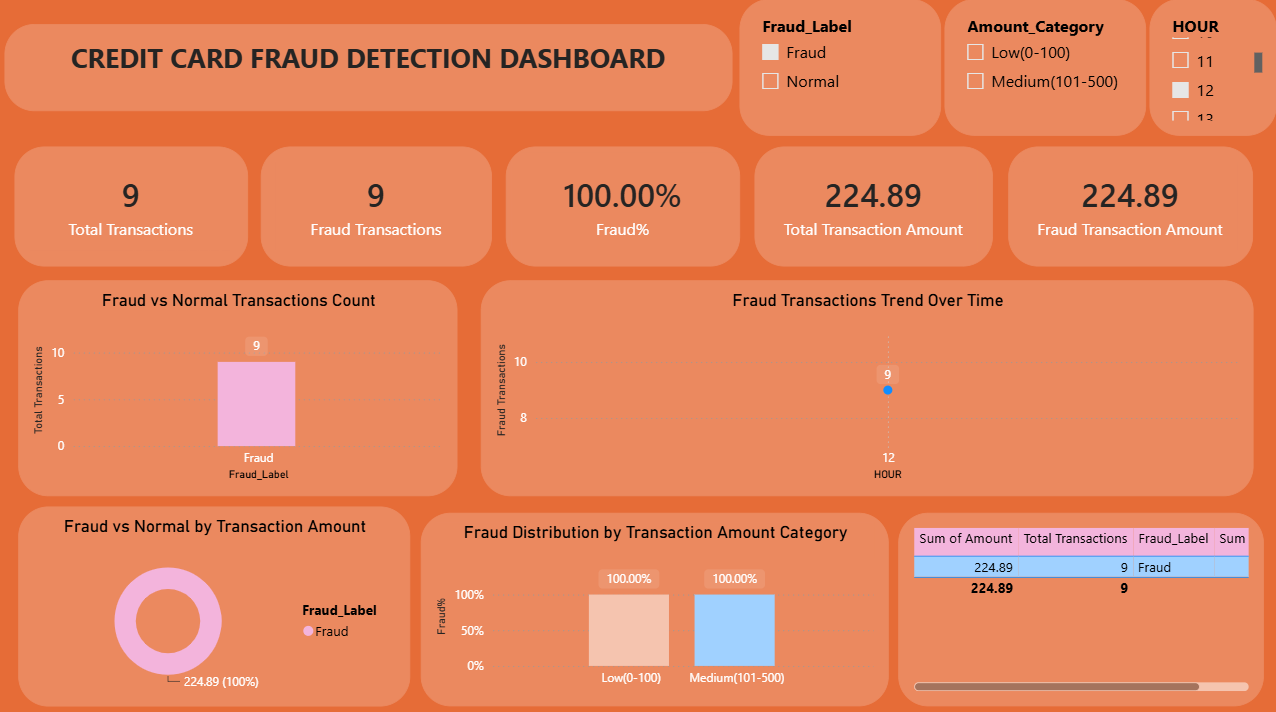

The dashboard page shown, as its layout file describes it:
{"tool":"powerbi","page":{"name":"Page 1","canvas":[1280,720],"ordinal":0},"visuals":[{"type":"cardVisual","fields":{"Data":["creditcard.Total Transactions"]},"box":[17.5,147.4,233.5,119.9],"z":0},{"type":"cardVisual","fields":{"Data":["creditcard.Fraud Transactions"]},"box":[263.5,147.4,231,119.9],"z":1000},{"type":"cardVisual","fields":{"Data":["creditcard.Fraud%"]},"box":[508.3,147.4,234.8,119.9],"z":2000},{"type":"cardVisual","fields":{"Data":["creditcard.Total Transaction Amount"]},"box":[758,147.4,238.5,119.9],"z":3000},{"type":"cardVisual","fields":{"Data":["creditcard.Fraud Transaction Amount"]},"box":[1011.5,147.4,244.8,119.9],"z":4000},{"type":"clusteredColumnChart","title":"Fraud vs Normal Transactions Count","fields":{"Category":["creditcard.Fraud_Label"],"Y":["creditcard.Total Transactions"]},"box":[21.2,281,439.6,216],"z":5000},{"type":"donutChart","title":"Fraud vs Normal by Transaction Amount","fields":{"Category":["creditcard.Fraud_Label"],"Y":["Sum(creditcard.Amount)"]},"box":[21.2,507,392.1,199.8],"z":6000},{"type":"lineChart","title":"Fraud Transactions Trend Over Time","fields":{"Category":["creditcard.HOUR"],"Y":["creditcard.Fraud Transactions"]},"box":[483.3,281,773,216],"z":7000},{"type":"columnChart","title":"Fraud Distribution by Transaction Amount Category","fields":{"Category":["creditcard.Amount_Category"],"Y":["creditcard.Fraud%"]},"box":[423.3,513.2,468.3,193.6],"z":8000},{"type":"tableEx","fields":{"Values":["Sum(creditcard.Amount)","creditcard.Total Transactions","creditcard.Fraud_Label","Sum(creditcard.HOUR)"]},"box":[901.6,513.2,365.9,193.6],"z":9000},{"type":"textbox","box":[7.5,25,727.6,87.1],"z":10000},{"type":"slicer","fields":{"Values":["creditcard.Fraud_Label"]},"box":[743,0,201.7,136.5],"z":11000},{"type":"slicer","fields":{"Values":["creditcard.Amount_Category"]},"box":[947.7,0,201.7,136.5],"z":12000},{"type":"slicer","fields":{"Values":["creditcard.HOUR"]},"box":[1152.4,0,127.4,136.5],"z":13000}]}

Visuals, with their boxes in screenshot pixels (x1, y1, x2, y2), scaled from the page's 1280x720 canvas onto the 1276x712 screenshot:
cardVisual - creditcard.Total Transactions: bbox=(17, 146, 250, 264)
cardVisual - creditcard.Fraud Transactions: bbox=(263, 146, 493, 264)
cardVisual - creditcard.Fraud%: bbox=(507, 146, 741, 264)
cardVisual - creditcard.Total Transaction Amount: bbox=(756, 146, 993, 264)
cardVisual - creditcard.Fraud Transaction Amount: bbox=(1008, 146, 1252, 264)
"Fraud vs Normal Transactions Count" clusteredColumnChart: bbox=(21, 278, 459, 491)
"Fraud vs Normal by Transaction Amount" donutChart: bbox=(21, 501, 412, 699)
"Fraud Transactions Trend Over Time" lineChart: bbox=(482, 278, 1252, 491)
"Fraud Distribution by Transaction Amount Category" columnChart: bbox=(422, 507, 889, 699)
tableEx - Sum(creditcard.Amount) x creditcard.Total Transactions: bbox=(899, 507, 1264, 699)
textbox: bbox=(7, 25, 733, 111)
slicer - creditcard.Fraud_Label: bbox=(741, 0, 942, 135)
slicer - creditcard.Amount_Category: bbox=(945, 0, 1146, 135)
slicer - creditcard.HOUR: bbox=(1149, 0, 1275, 135)
